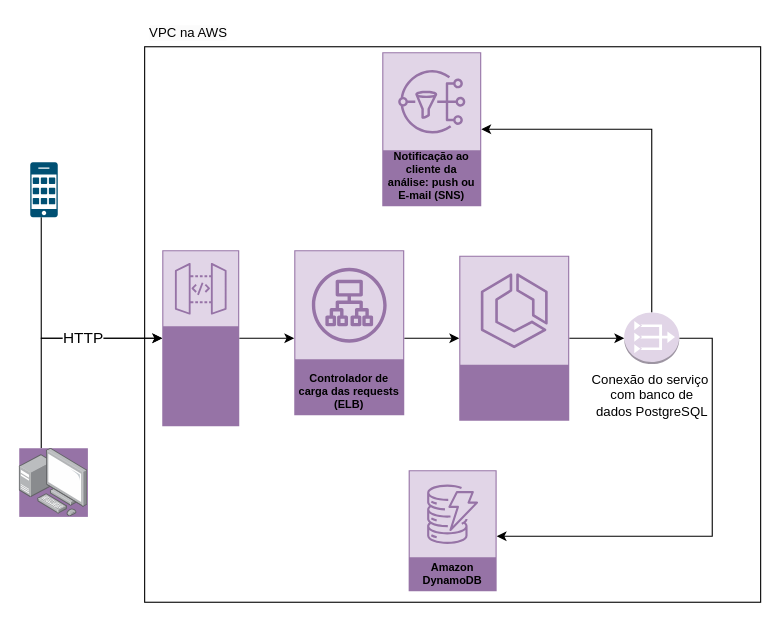
This 780x622 diagram has some shape labels left out. Here are the shapes that lost their labels. From the top down, the centre of each, then its label:
(x=200, y=337): API REST exposta para requests de análise de documentos (Amazon API Gateway)
(x=513, y=338): Serviço para validação dos daods/documentos (ECS)
